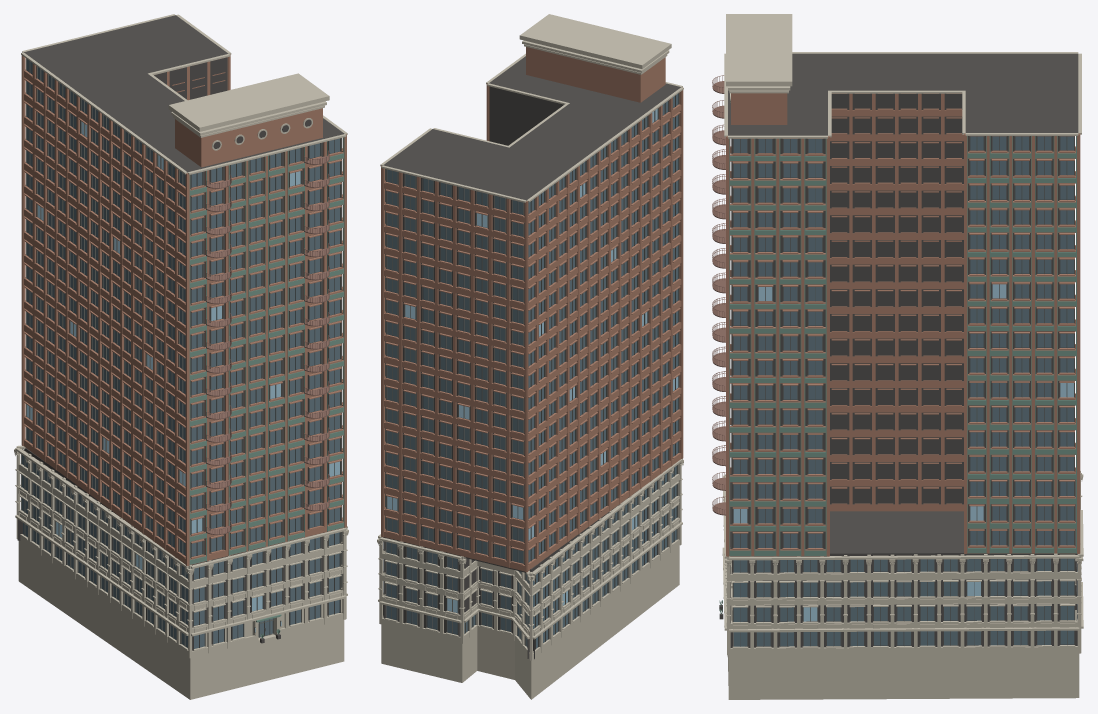
Rendered from morton_building.glb.
The picture shows the model from 3 angles, left to right: view 1: azimuth 30°, elevation 25°; view 2: azimuth 150°, elevation 25°; view 3: azimuth 270°, elevation 25°; orthographic projection. The views are drawn at different scales.
Visible parts, largest first — view 1: Morton red brick shaft, Morton recessed blue grey panes, Morton pale stone base and attic, Morton dark roof and interior, Morton dark window sashes, Morton green terra cotta panels, Morton dark hung balcony iron, Night occupied Morton panes; view 2: Morton red brick shaft, Morton recessed blue grey panes, Morton pale stone base and attic, Morton dark roof and interior, Morton dark window sashes, Night occupied Morton panes; view 3: Morton dark roof and interior, Morton red brick shaft, Morton pale stone base and attic, Morton recessed blue grey panes, Morton green terra cotta panels, Morton dark window sashes, Morton dark hung balcony iron, Night occupied Morton panes.
Part boxes in pixels (left/top/right/bottom): Morton red brick shaft: left=21, top=54, right=346, bottom=566; Morton recessed blue grey panes: left=22, top=59, right=339, bottom=648; Morton pale stone base and attic: left=14, top=14, right=348, bottom=699; Morton dark roof and interior: left=17, top=15, right=344, bottom=650; Morton dark window sashes: left=21, top=58, right=342, bottom=647; Morton green terra cotta panels: left=189, top=137, right=344, bottom=638; Morton dark hung balcony iron: left=206, top=150, right=329, bottom=534; Night occupied Morton panes: left=27, top=122, right=339, bottom=632; Morton red brick shaft: left=381, top=47, right=683, bottom=572; Morton recessed blue grey panes: left=386, top=94, right=678, bottom=648; Morton pale stone base and attic: left=377, top=14, right=683, bottom=699; Morton dark roof and interior: left=383, top=56, right=680, bottom=659; Morton dark window sashes: left=383, top=93, right=679, bottom=649; Night occupied Morton panes: left=387, top=109, right=678, bottom=612; Morton dark roof and interior: left=719, top=53, right=1078, bottom=647; Morton red brick shaft: left=726, top=93, right=1080, bottom=556; Morton pale stone base and attic: left=722, top=14, right=1083, bottom=699; Morton recessed blue grey panes: left=733, top=136, right=1077, bottom=646; Morton green terra cotta panels: left=719, top=136, right=1076, bottom=614; Morton dark window sashes: left=733, top=136, right=1074, bottom=646; Morton dark hung balcony iron: left=712, top=75, right=725, bottom=515; Night occupied Morton panes: left=733, top=284, right=1077, bottom=621.
Bounding box in the file's own units: 33.39 × 108 × 59.33.
